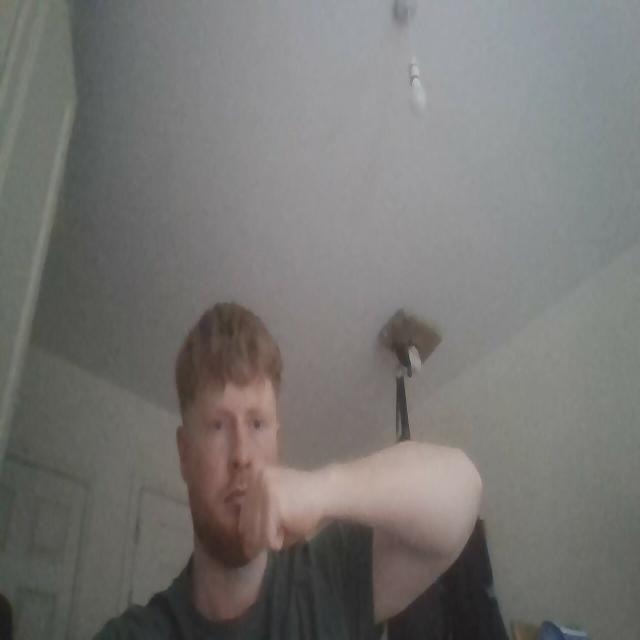rock: (241, 462, 320, 556)
